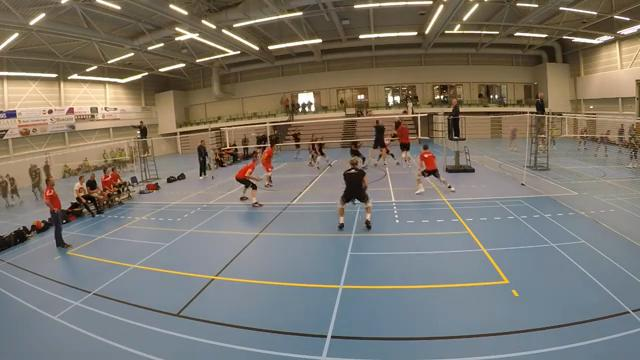Block: (369, 115, 398, 166), (395, 118, 415, 170)
Player: (338, 158, 371, 229), (416, 144, 454, 193), (235, 154, 261, 206), (262, 144, 274, 187), (316, 137, 328, 169), (350, 141, 365, 165), (385, 139, 399, 164), (308, 134, 317, 165), (292, 130, 300, 158)
